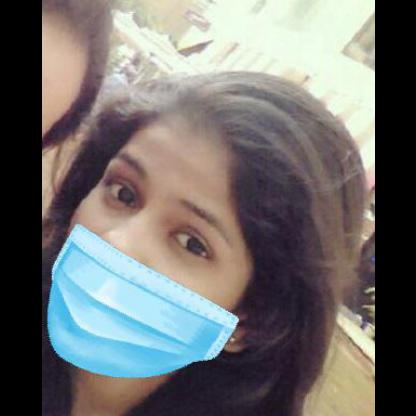Surgical Mask: (60, 80, 340, 364)
